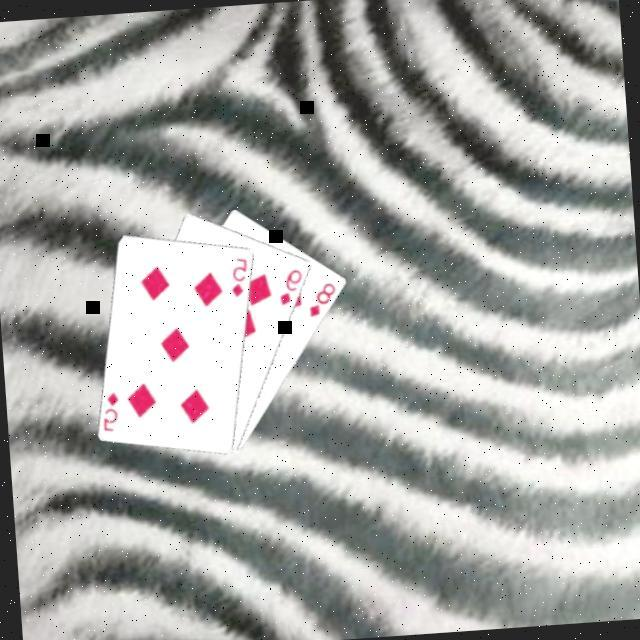5D: (227, 256, 253, 302), (99, 390, 125, 436)
8D: (304, 281, 341, 323)
9D: (275, 266, 308, 310)
